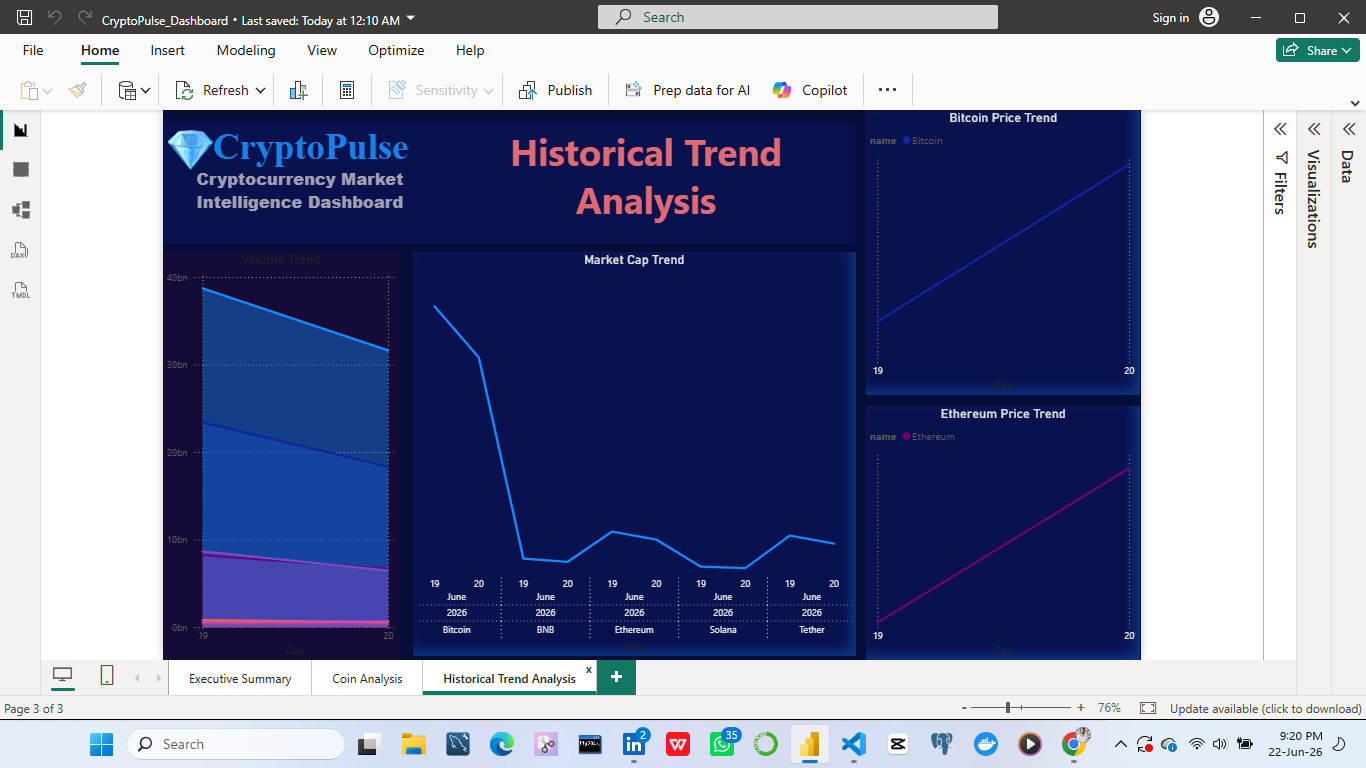

This screenshot's page, from the dashboard's own definition file:
{"tool":"powerbi","page":{"name":"Historical Trend Analysis","canvas":[1280,720],"ordinal":2},"visuals":[{"type":"lineChart","title":"Ethereum Price Trend","fields":{"Category":["public crypto_prices.loaded_at.Variation.Date Hierarchy.Day"],"Y":["Avg(public crypto_prices.current_price)"],"Series":["public crypto_prices.name"]},"box":[920.5,388,359.5,332.6],"z":0},{"type":"lineChart","title":"Bitcoin Price Trend","fields":{"Category":["public crypto_prices.loaded_at.Variation.Date Hierarchy.Day"],"Y":["Avg(public crypto_prices.current_price)"],"Series":["public crypto_prices.name"]},"box":[920.5,0,359.5,372.9],"z":1000},{"type":"lineChart","title":"Market Cap Trend","fields":{"Category":["public crypto_prices.name","public crypto_prices.loaded_at.Variation.Date Hierarchy.Year","public crypto_prices.loaded_at.Variation.Date Hierarchy.Month","public crypto_prices.loaded_at.Variation.Date Hierarchy.Day"],"Y":["Sum(public crypto_prices.market_cap)"]},"box":[327.6,186.5,579.5,529.1],"z":2000},{"type":"areaChart","title":"Volume Trend","fields":{"Category":["public crypto_prices.loaded_at.Variation.Date Hierarchy.Day"],"Y":["Avg(public crypto_prices.total_volume)"],"Series":["public crypto_prices.name"]},"box":[0,185.8,309.6,534.2],"z":3000},{"type":"textbox","box":[0,15.8,358.6,159.8],"z":3500},{"type":"image","box":[0,15.8,72,72],"z":4000},{"type":"textbox","box":[358.6,15.8,547.2,159.8],"z":6000}]}

Visuals, with their boxes on the page's 1280x720 design canvas (x1, y1, x2, y2). These are canvas units, not pixel positions in the 1366x768 screenshot, which may show the page scaled, cropped or inside an application window:
"Ethereum Price Trend" lineChart: <region>920, 388, 1280, 721</region>
"Bitcoin Price Trend" lineChart: <region>920, 0, 1280, 373</region>
"Market Cap Trend" lineChart: <region>328, 186, 907, 716</region>
"Volume Trend" areaChart: <region>0, 186, 310, 720</region>
textbox: <region>0, 16, 359, 176</region>
image: <region>0, 16, 72, 88</region>
textbox: <region>359, 16, 906, 176</region>
